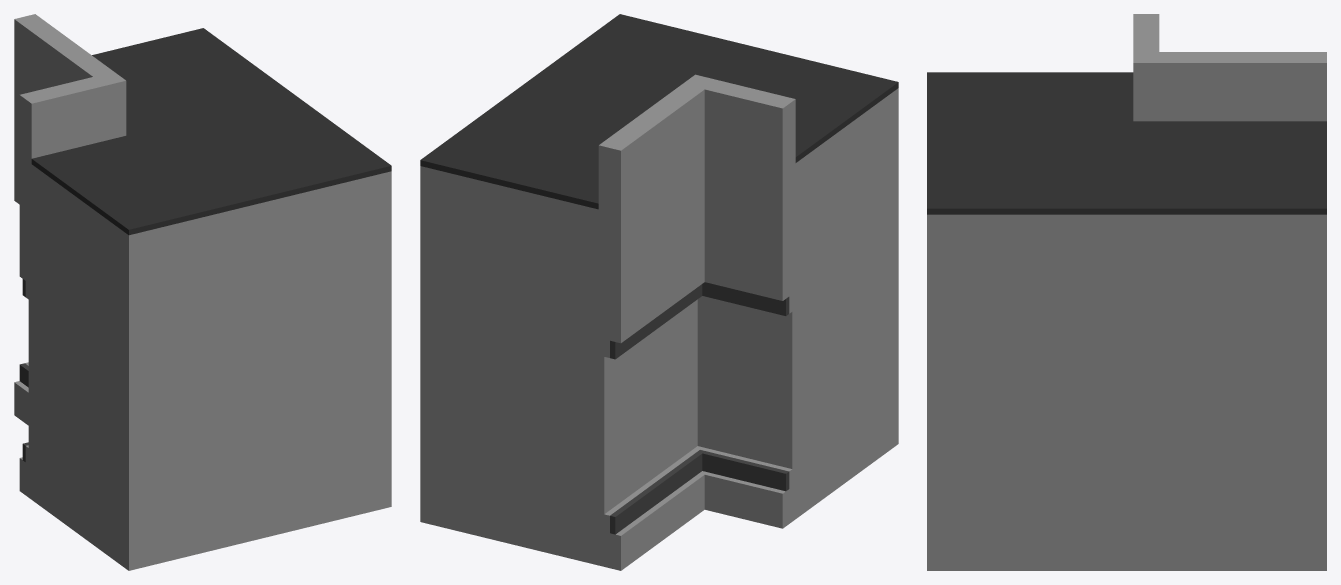
Rendered from casa3.obj.
3 views of the same model, side by side, from view 1: azimuth 30°, elevation 25°; view 2: azimuth 150°, elevation 25°; view 3: azimuth 270°, elevation 25° (orthographic). The views are drawn at different scales.
Bounding box in the file's own units: 50 × 72 × 62.
1 material, 1 textured.
